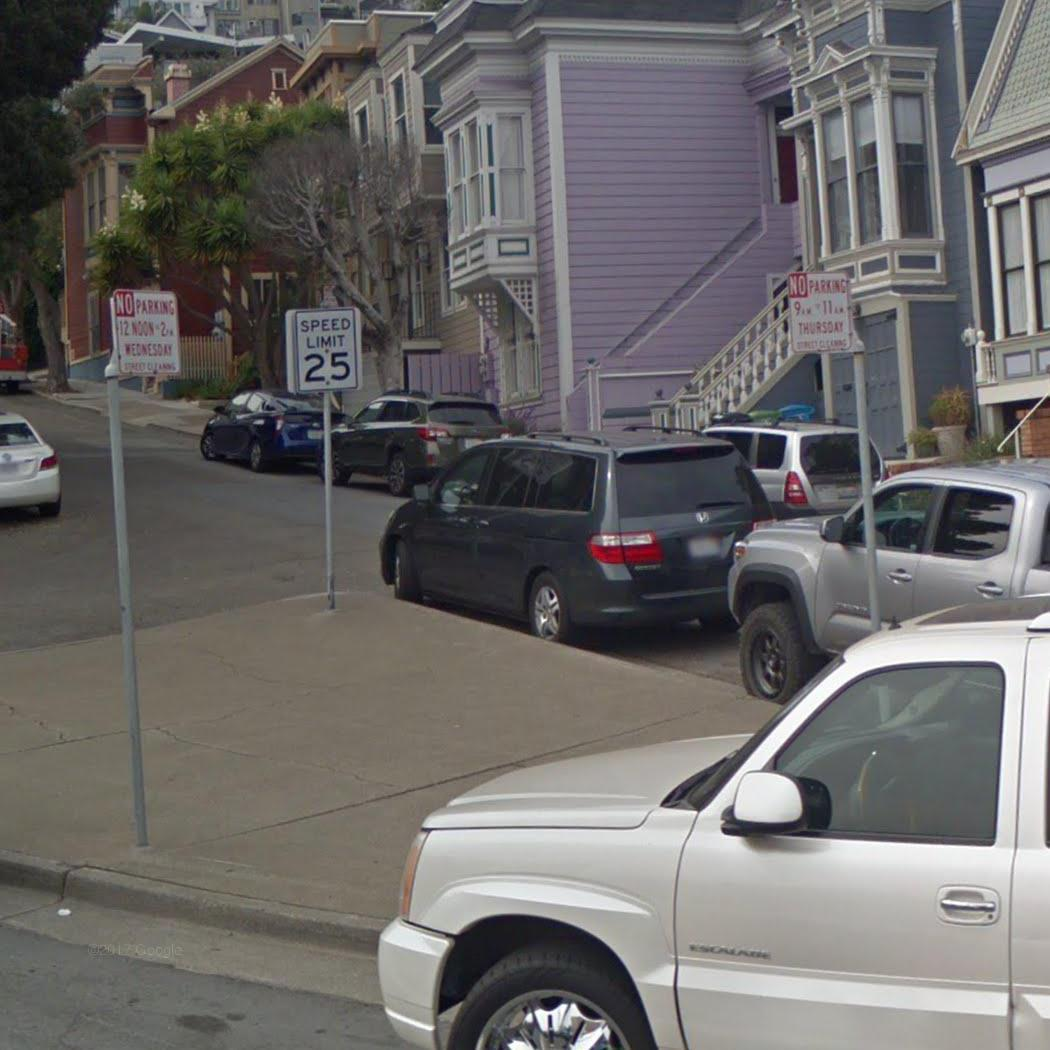No Parking: (113, 287, 183, 377), (785, 268, 856, 356)
